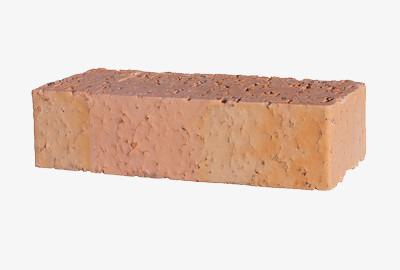brick: (27, 64, 369, 195)
